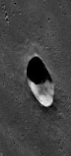crater: (15, 26, 64, 139)
